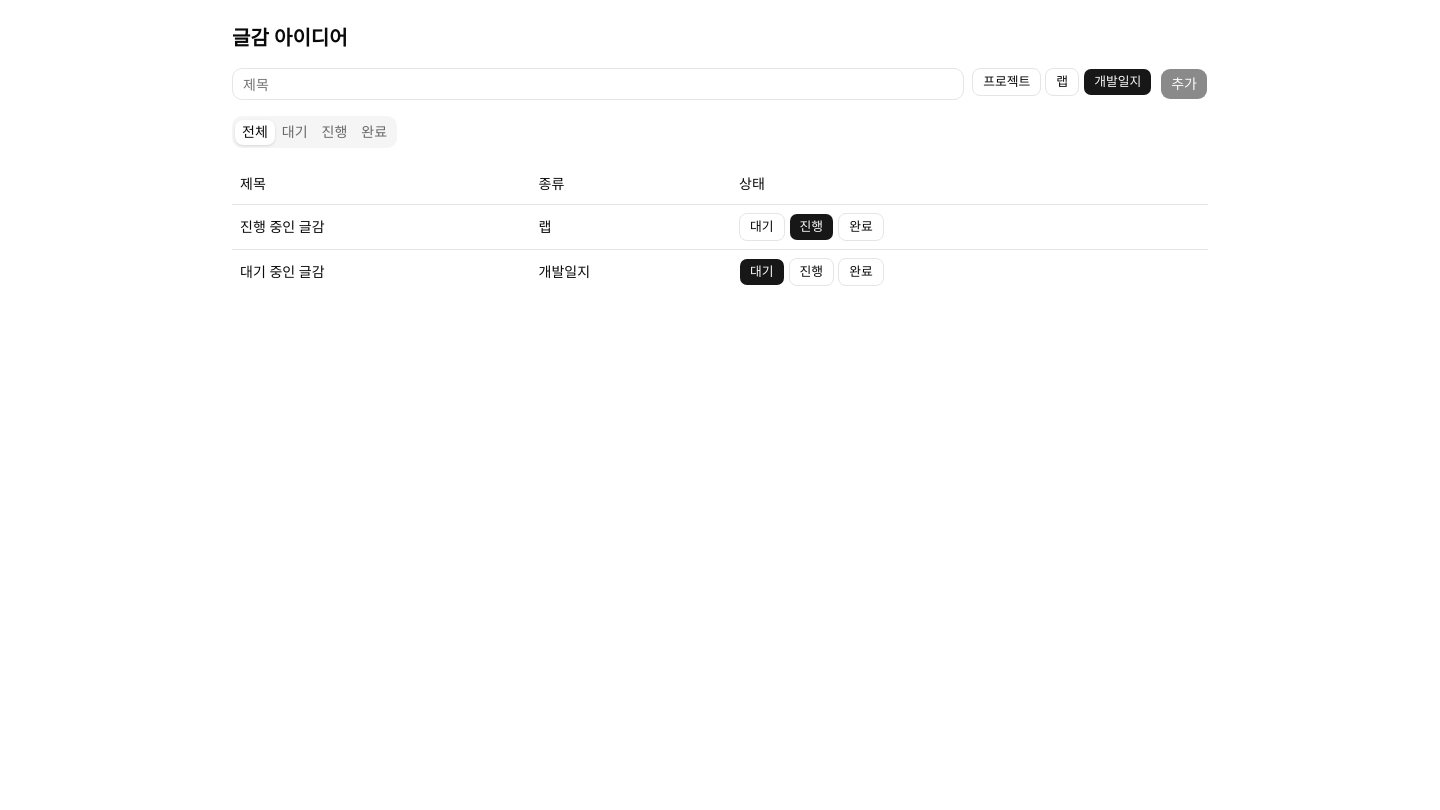
Test: IdeasPage › 정상 › 행을 누르면 상세 모달이 열려 메모 전문이 보이고, 닫으면 모달이 사라져야 한다
The width and height of the screenshot is (1440, 810).
Click the text "진행 중인 글감" at (282, 226), box [232,204,531,249]
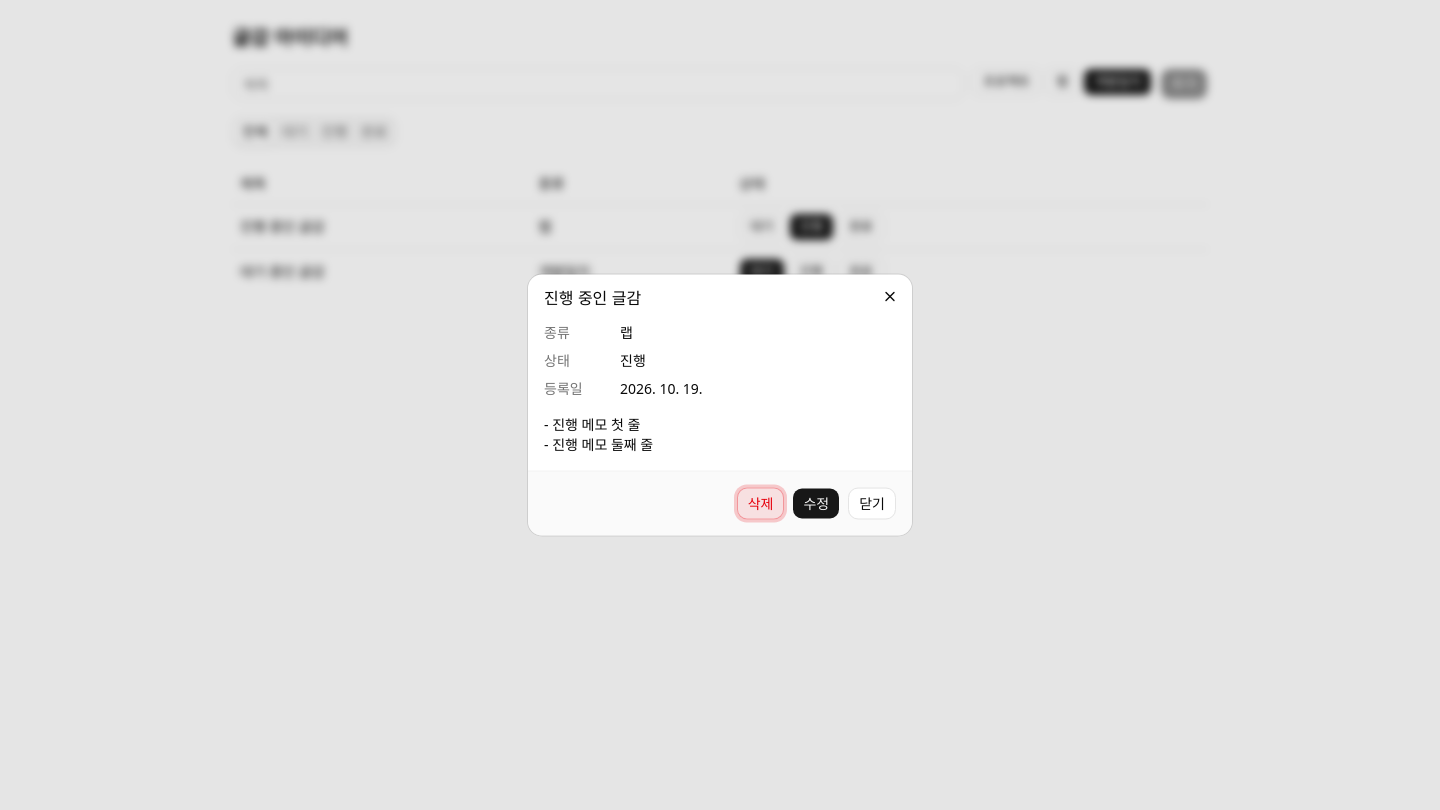
expect the text "- 진행 메모 첫 줄 - 진행 메모 둘째 줄" is shown: met, box [544,414,653,454]
Press Escape
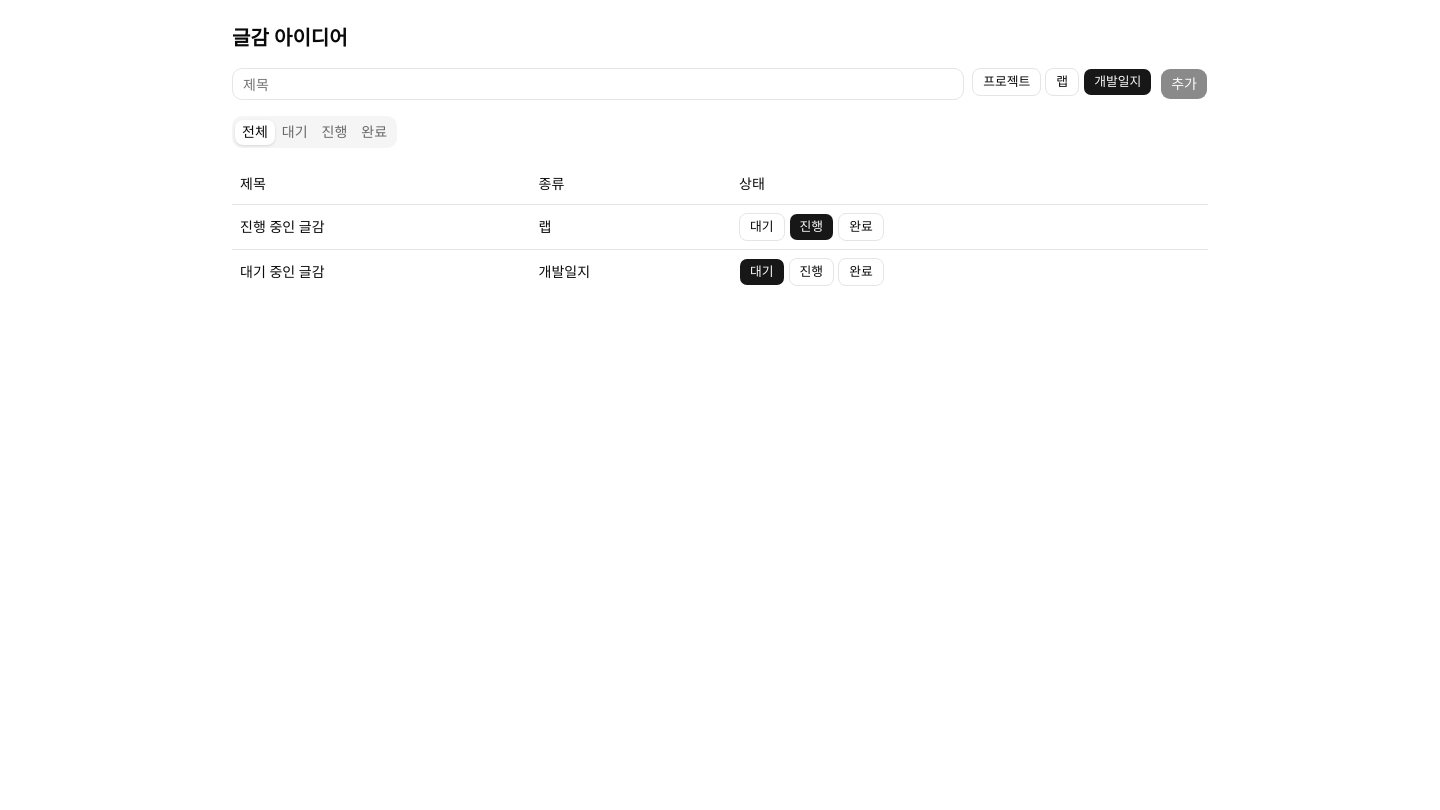
expect the dialog is gone: met
